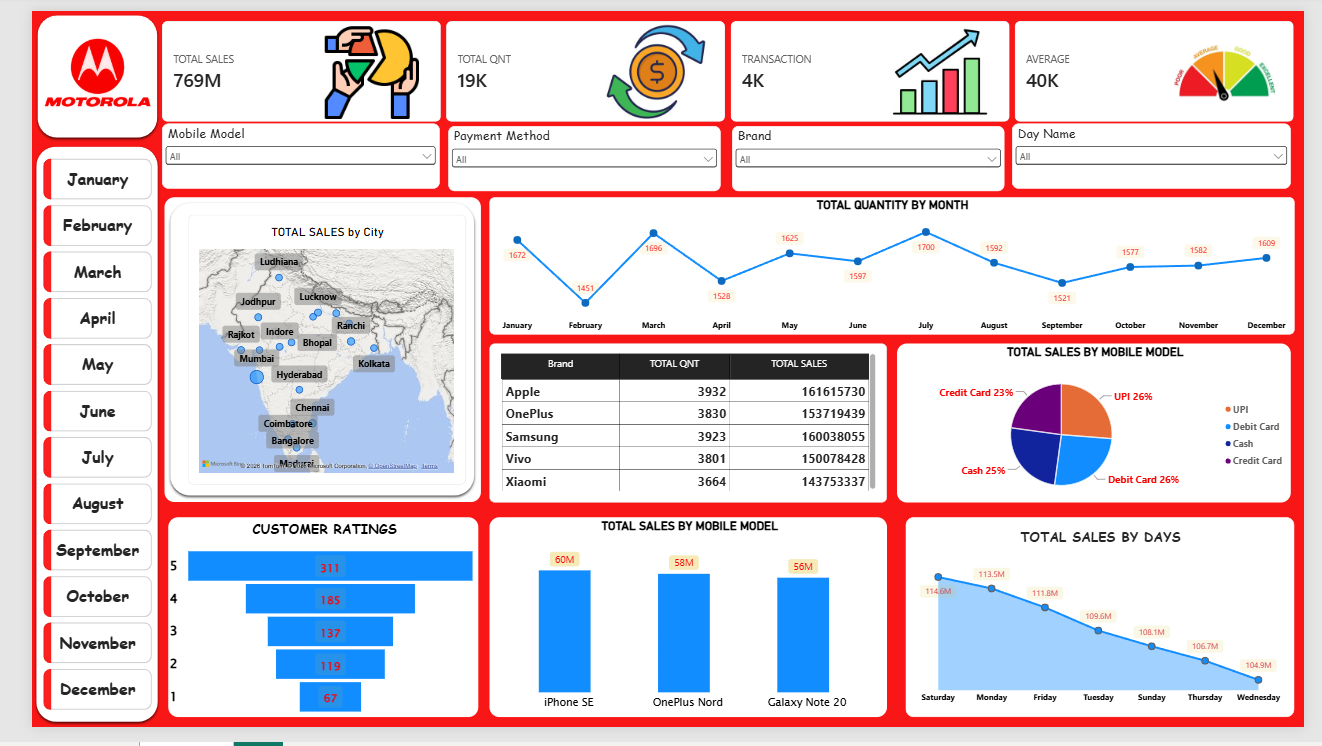

The page's visual inventory and layout, read from the dashboard file:
{"tool":"powerbi","page":{"name":"Page 1","canvas":[1920,1080],"ordinal":0},"visuals":[{"type":"shape","box":[0,198.1,196.2,881.1],"z":0},{"type":"shape","box":[2.1,0,193.5,197.6],"z":1000},{"type":"image","box":[9.4,17,179.1,152.3],"z":2000},{"type":"advancedSlicerVisual","fields":{"Values":["MOBILE DATA.DATE.Variation.Date Hierarchy.Month"]},"box":[17,222.6,164.7,843.9],"z":2500},{"type":"shape","box":[200,281.1,477.4,460.4],"z":3000},{"type":"cardVisual","fields":{"Data":["MOBILE DATA.TOTAL SALES","MOBILE DATA.TOTAL QNT","MOBILE DATA.COUNTROWS","MOBILE DATA.AVERAGE"]},"box":[196.2,15.1,1709.4,152.8],"z":5000},{"type":"map","fields":{"Category":["MOBILE DATA.City"],"Size":["MOBILE DATA.TOTAL SALES"]},"box":[235.8,307.5,418.9,407.5],"z":6000},{"type":"lineChart","title":"TOTAL QUANTITY BY MONTH","fields":{"Category":["MOBILE DATA.DATE.Variation.Date Hierarchy.Month","MOBILE DATA.DATE.Variation.Date Hierarchy.Day"],"Y":["Sum(MOBILE DATA.Units Sold)"]},"box":[690.6,281.1,1215.1,207.5],"z":7000},{"type":"columnChart","title":"TOTAL SALES BY  MOBILE MODEL","fields":{"Category":["MOBILE DATA.Mobile Model"],"Y":["MOBILE DATA.TOTAL SALES"]},"box":[690.6,764.2,600,301.9],"z":8000},{"type":"pieChart","title":"TOTAL SALES BY  MOBILE MODEL","fields":{"Category":["MOBILE DATA.Payment Method"],"Y":["MOBILE DATA.TRANSACTION"]},"box":[1305.7,501.9,594.3,239.6],"z":9000},{"type":"funnel","title":"CUSTOMER RATINGS","fields":{"Category":["MOBILE DATA.Customer Ratings"],"Y":["CountNonNull(MOBILE DATA.Customer Ratings)"]},"box":[205.7,764.2,467.9,301.9],"z":10000},{"type":"areaChart","title":"TOTAL SALES BY DAYS","fields":{"Category":["MOBILE DATA.Day Name.1"],"Y":["MOBILE DATA.TOTAL SALES"]},"box":[1318.9,764.2,586.8,301.9],"z":10001},{"type":"tableEx","fields":{"Values":["MOBILE DATA.Brand","MOBILE DATA.TOTAL QNT","MOBILE DATA.TOTAL SALES"]},"box":[690.6,501.9,600,239.6],"z":10002},{"type":"slicer","fields":{"Values":["MOBILE DATA.Mobile Model"]},"box":[196.2,169.8,418.9,98.1],"z":10003},{"type":"slicer","fields":{"Values":["MOBILE DATA.Payment Method"]},"box":[628.3,173.6,411.3,98.1],"z":10004},{"type":"slicer","fields":{"Values":["MOBILE DATA.Brand"]},"box":[1056.6,173.6,411.3,98.1],"z":10005},{"type":"slicer","fields":{"Values":["MOBILE DATA.Day Name.1"]},"box":[1479.2,169.8,420.8,98.1],"z":10006}]}

Visuals, with their boxes in screenshot pixels (x1, y1, x2, y2), scaled from the page's 1920x1080 canvas onto the 1322x746 screenshot:
shape: pyautogui.locateOnScreen(0, 137, 135, 745)
shape: pyautogui.locateOnScreen(1, 0, 135, 136)
image: pyautogui.locateOnScreen(6, 12, 130, 117)
advancedSlicerVisual - MOBILE DATA.DATE.Variation.Date Hierarchy.Month: pyautogui.locateOnScreen(12, 154, 125, 737)
shape: pyautogui.locateOnScreen(138, 194, 466, 512)
cardVisual - MOBILE DATA.TOTAL SALES x MOBILE DATA.TOTAL QNT: pyautogui.locateOnScreen(135, 10, 1312, 116)
map - MOBILE DATA.City x MOBILE DATA.TOTAL SALES: pyautogui.locateOnScreen(162, 212, 451, 494)
"TOTAL QUANTITY BY MONTH" lineChart: pyautogui.locateOnScreen(476, 194, 1312, 337)
"TOTAL SALES BY  MOBILE MODEL" columnChart: pyautogui.locateOnScreen(476, 528, 889, 736)
"TOTAL SALES BY  MOBILE MODEL" pieChart: pyautogui.locateOnScreen(899, 347, 1308, 512)
"CUSTOMER RATINGS" funnel: pyautogui.locateOnScreen(142, 528, 464, 736)
"TOTAL SALES BY DAYS" areaChart: pyautogui.locateOnScreen(908, 528, 1312, 736)
tableEx - MOBILE DATA.Brand x MOBILE DATA.TOTAL QNT: pyautogui.locateOnScreen(476, 347, 889, 512)
slicer - MOBILE DATA.Mobile Model: pyautogui.locateOnScreen(135, 117, 424, 185)
slicer - MOBILE DATA.Payment Method: pyautogui.locateOnScreen(433, 120, 716, 188)
slicer - MOBILE DATA.Brand: pyautogui.locateOnScreen(728, 120, 1011, 188)
slicer - MOBILE DATA.Day Name.1: pyautogui.locateOnScreen(1018, 117, 1308, 185)
